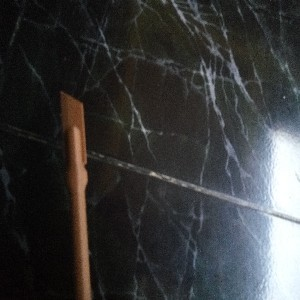cutter: (58, 89, 89, 300)
